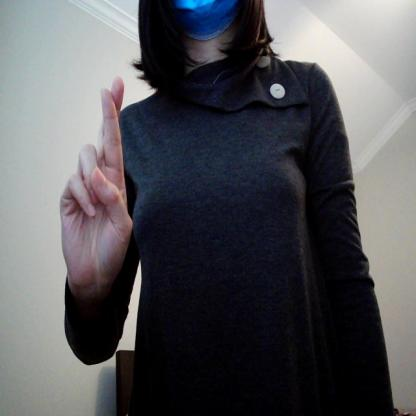right: (58, 77, 140, 292)
